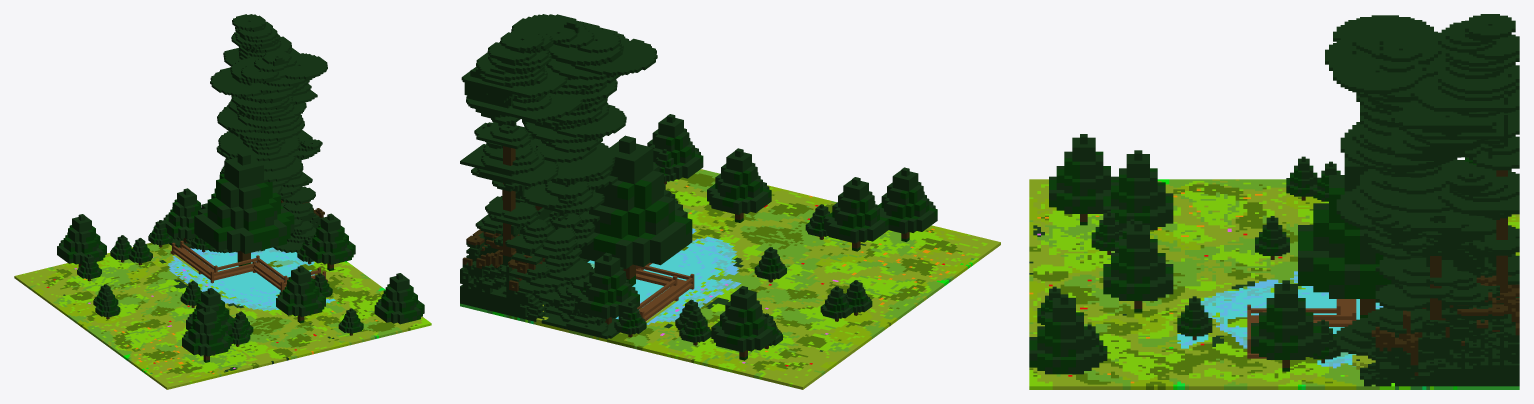
3 views of the same model, side by side, from view 1: azimuth 30°, elevation 25°; view 2: azimuth 150°, elevation 25°; view 3: azimuth 270°, elevation 25° (orthographic). The views are drawn at different scales.
Visible parts, largest first — view 1: da——di——tu-3; view 2: da——di——tu-3; view 3: da——di——tu-3.
Part boxes in pixels (x1,y1,x2,y2): da——di——tu-3: (14, 14, 431, 389); da——di——tu-3: (460, 14, 1000, 389); da——di——tu-3: (1029, 14, 1519, 389).
Bounding box in the file's own units: 126 × 95 × 126.
Materials: 1 (1 with a texture image).
